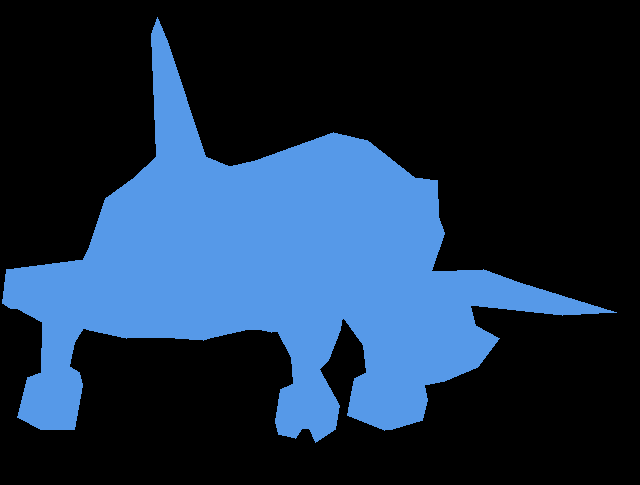Airplane: (2, 17, 617, 443)
